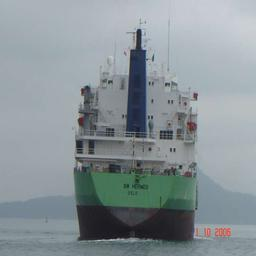Ship: (71, 34, 200, 245)
